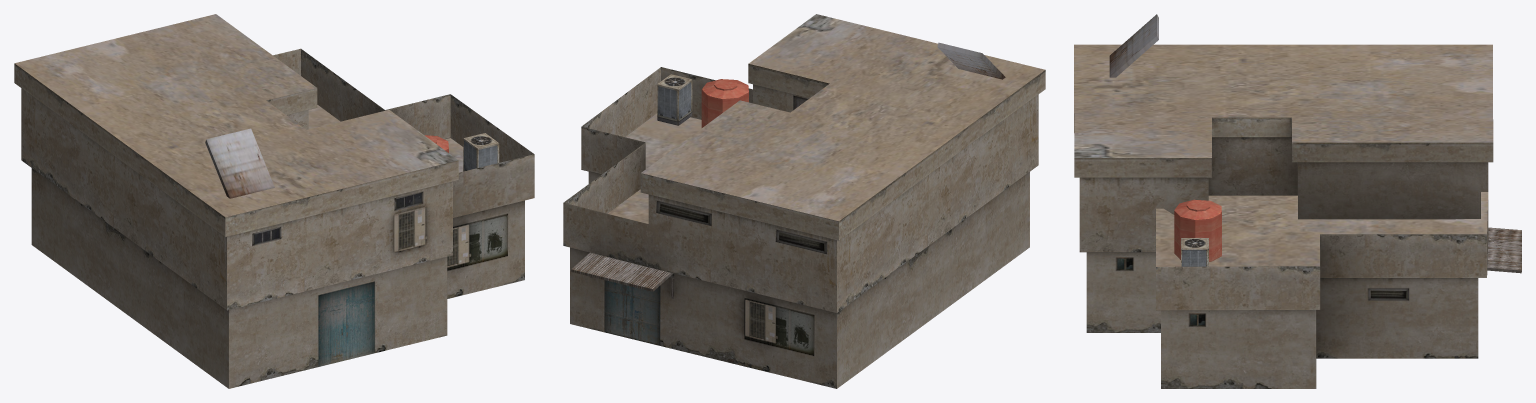
Rendered from building05.fbx.
The picture shows the model from 3 angles, left to right: view 1: azimuth 30°, elevation 25°; view 2: azimuth 150°, elevation 25°; view 3: azimuth 270°, elevation 25°; orthographic projection.
Parts seen in each view (by area): view 1: Building_46; view 2: Building_46; view 3: Building_46.
Part boxes in pixels (x1=…): Building_46: x1=14, y1=14, x2=534, y2=388; Building_46: x1=563, y1=14, x2=1045, y2=388; Building_46: x1=1074, y1=14, x2=1521, y2=388.
Size of the model in its own units: 1132 by 680 by 1259.
